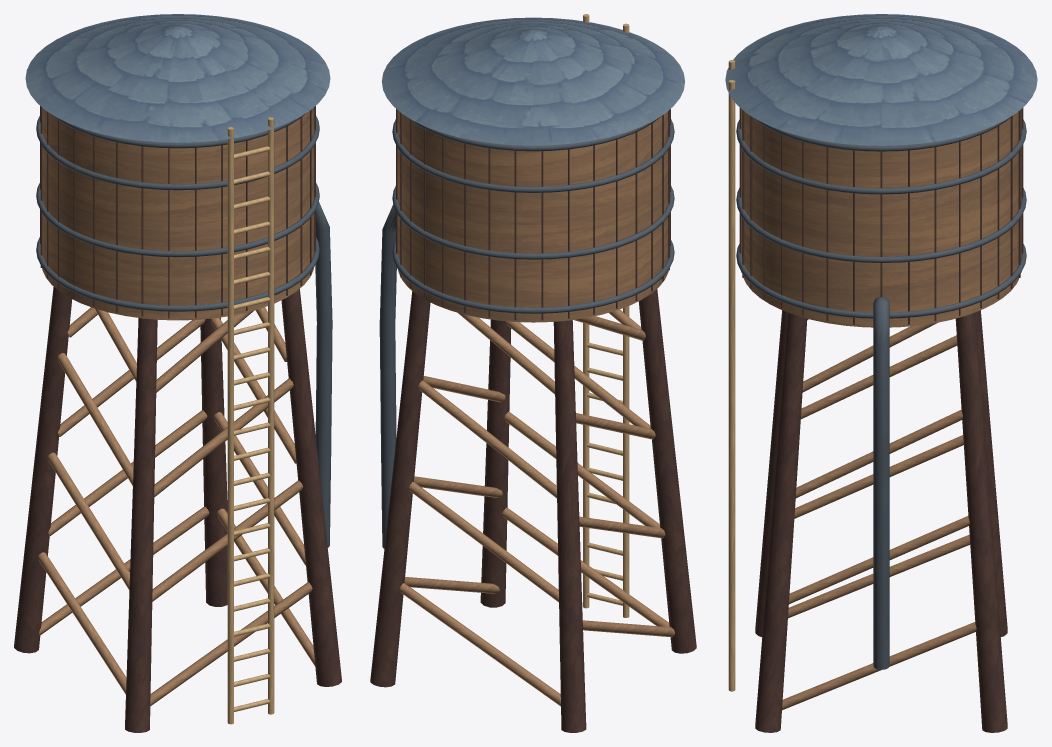
Rendered from water_tower.glb.
The picture shows the model from 3 angles, left to right: view 1: azimuth 30°, elevation 25°; view 2: azimuth 150°, elevation 25°; view 3: azimuth 270°, elevation 25°; orthographic projection. The views are drawn at different scales.
Visible parts, largest first — view 1: water_tower; view 2: water_tower; view 3: water_tower.
Boxes of the visible parts, x1,y1,x2,y2 form: water_tower: (14, 14, 341, 732); water_tower: (370, 14, 696, 732); water_tower: (725, 14, 1037, 732).
Size of the model in its own units: 3.57 by 7.61 by 3.3.
Materials: 2 (2 with a texture image).
